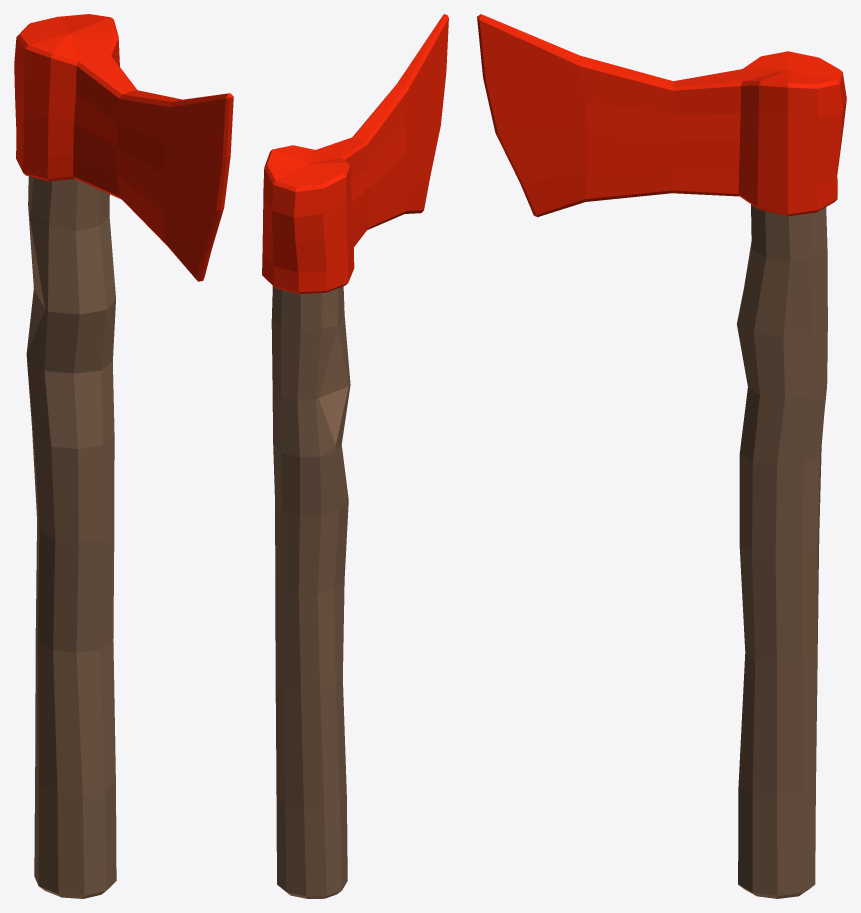
Rendered from Axe_01_Red.fbx.
The picture shows the model from 3 angles, left to right: view 1: azimuth 30°, elevation 25°; view 2: azimuth 150°, elevation 25°; view 3: azimuth 270°, elevation 25°; orthographic projection. The views are drawn at different scales.
Parts seen in each view (by area): view 1: Axe_01_Red; view 2: Axe_01_Red; view 3: Axe_01_Red.
Boxes of the visible parts, box(x1,y1,x2,y2) form: Axe_01_Red: box(14, 14, 233, 898); Axe_01_Red: box(262, 14, 448, 898); Axe_01_Red: box(477, 14, 846, 898).
Size of the model in its own units: 13.94 by 129 by 49.54.
